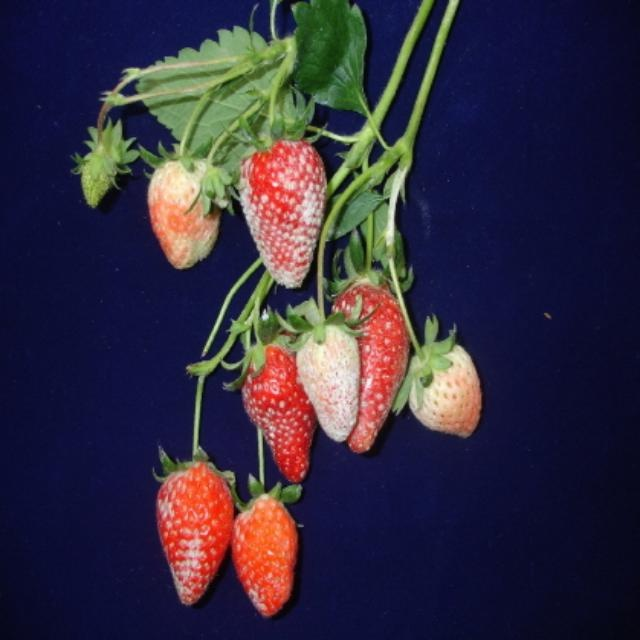Powdery Mildew Fruit: (328, 273, 410, 454), (236, 128, 328, 289), (156, 456, 237, 607), (241, 336, 318, 485), (233, 491, 299, 619), (295, 321, 360, 444)
